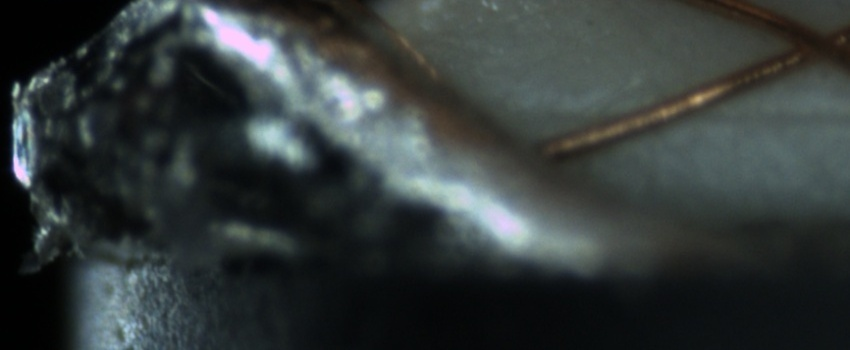CL: (765, 10, 847, 76)
DL: (621, 80, 850, 151)
